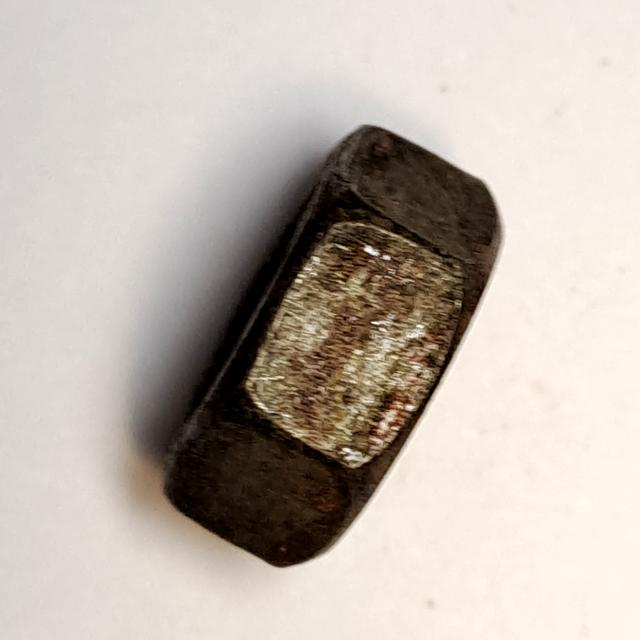Side_Rust: (149, 115, 511, 578)
